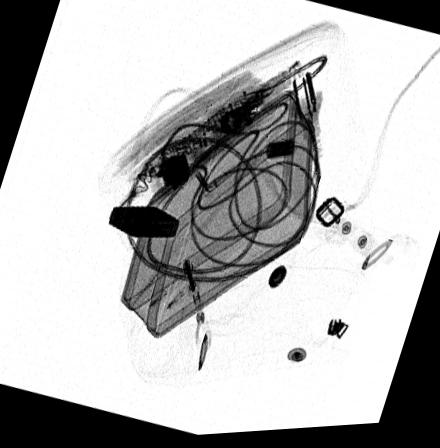Lighter: (107, 207, 180, 241)
